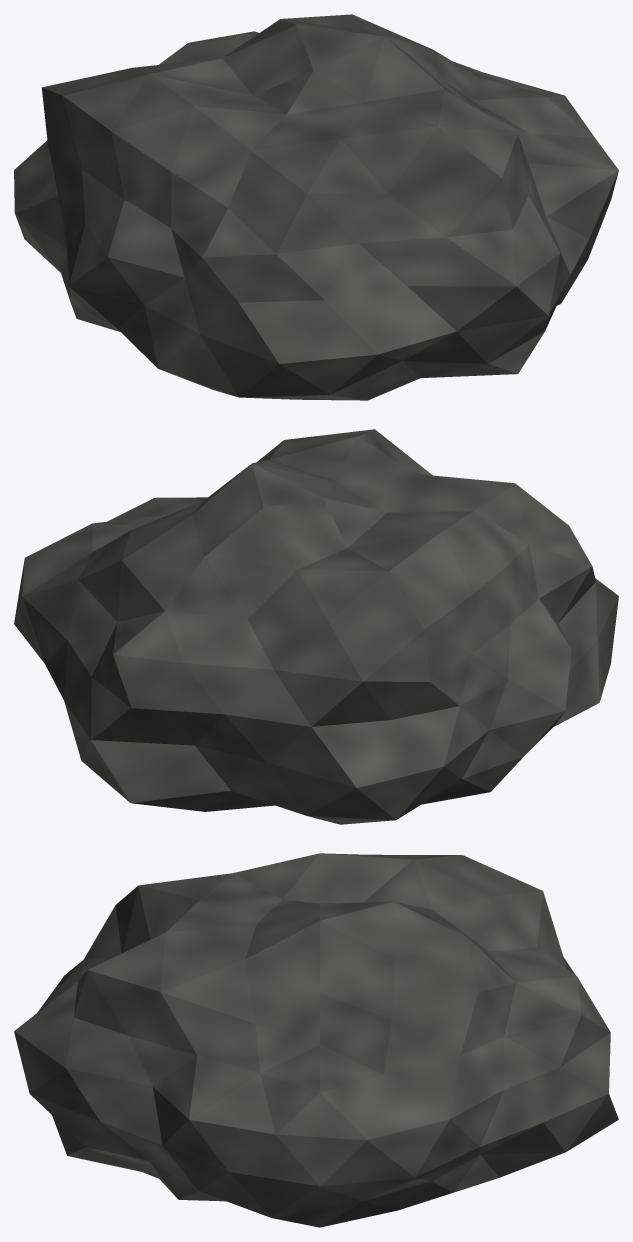
File: Rock_12.fbx
3 renders of one model, top to bottom at view 1: azimuth 30°, elevation 25°; view 2: azimuth 150°, elevation 25°; view 3: azimuth 270°, elevation 25°, orthographic. The views are drawn at different scales.
Parts seen in each view (by area): view 1: Rock_12; view 2: Rock_12; view 3: Rock_12.
Part boxes in pixels (x1,y1,x2,y2): Rock_12: (14,14,618,400); Rock_12: (14,429,618,824); Rock_12: (14,853,618,1227).
Size of the model in its own units: 210 by 97.11 by 216.
